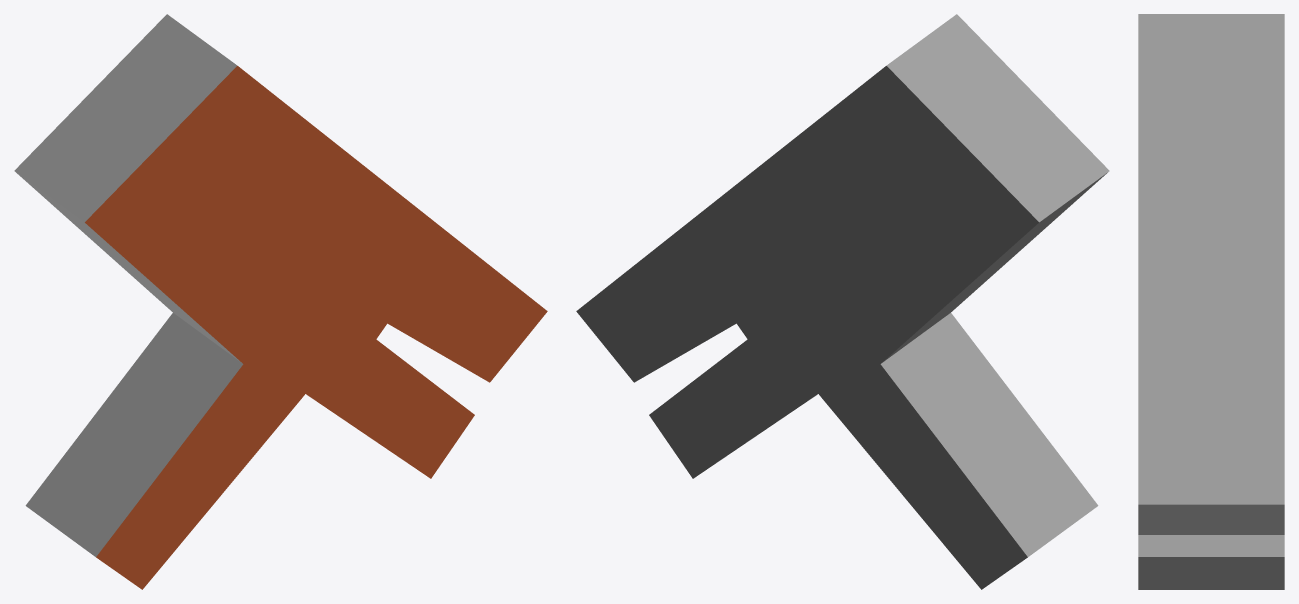
The model's file is construction_7123_assumed_A_Casa_h6m.obj.
3 views of the same model, side by side, from view 1: azimuth 30°, elevation 25°; view 2: azimuth 150°, elevation 25°; view 3: azimuth 270°, elevation 25° (orthographic). The views are drawn at different scales.
Parts seen in each view (by area): view 1: construction_7123_assumed_A_Casa; view 2: construction_7123_assumed_A_Casa; view 3: construction_7123_assumed_A_Casa.
Part boxes in pixels (x1,y1,x2,y2): construction_7123_assumed_A_Casa: (14, 14, 547, 589); construction_7123_assumed_A_Casa: (576, 14, 1109, 589); construction_7123_assumed_A_Casa: (1138, 14, 1284, 589).
Size of the model in its own units: 22.76 by 23.54 by 6.
